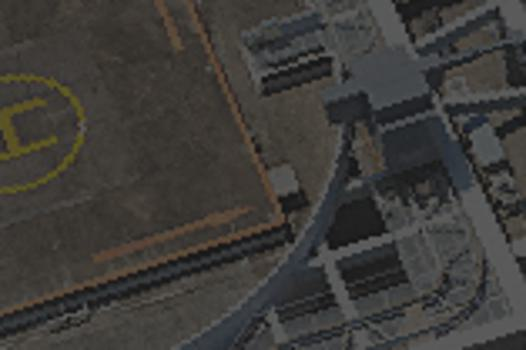Apron: (1, 73, 79, 188)
